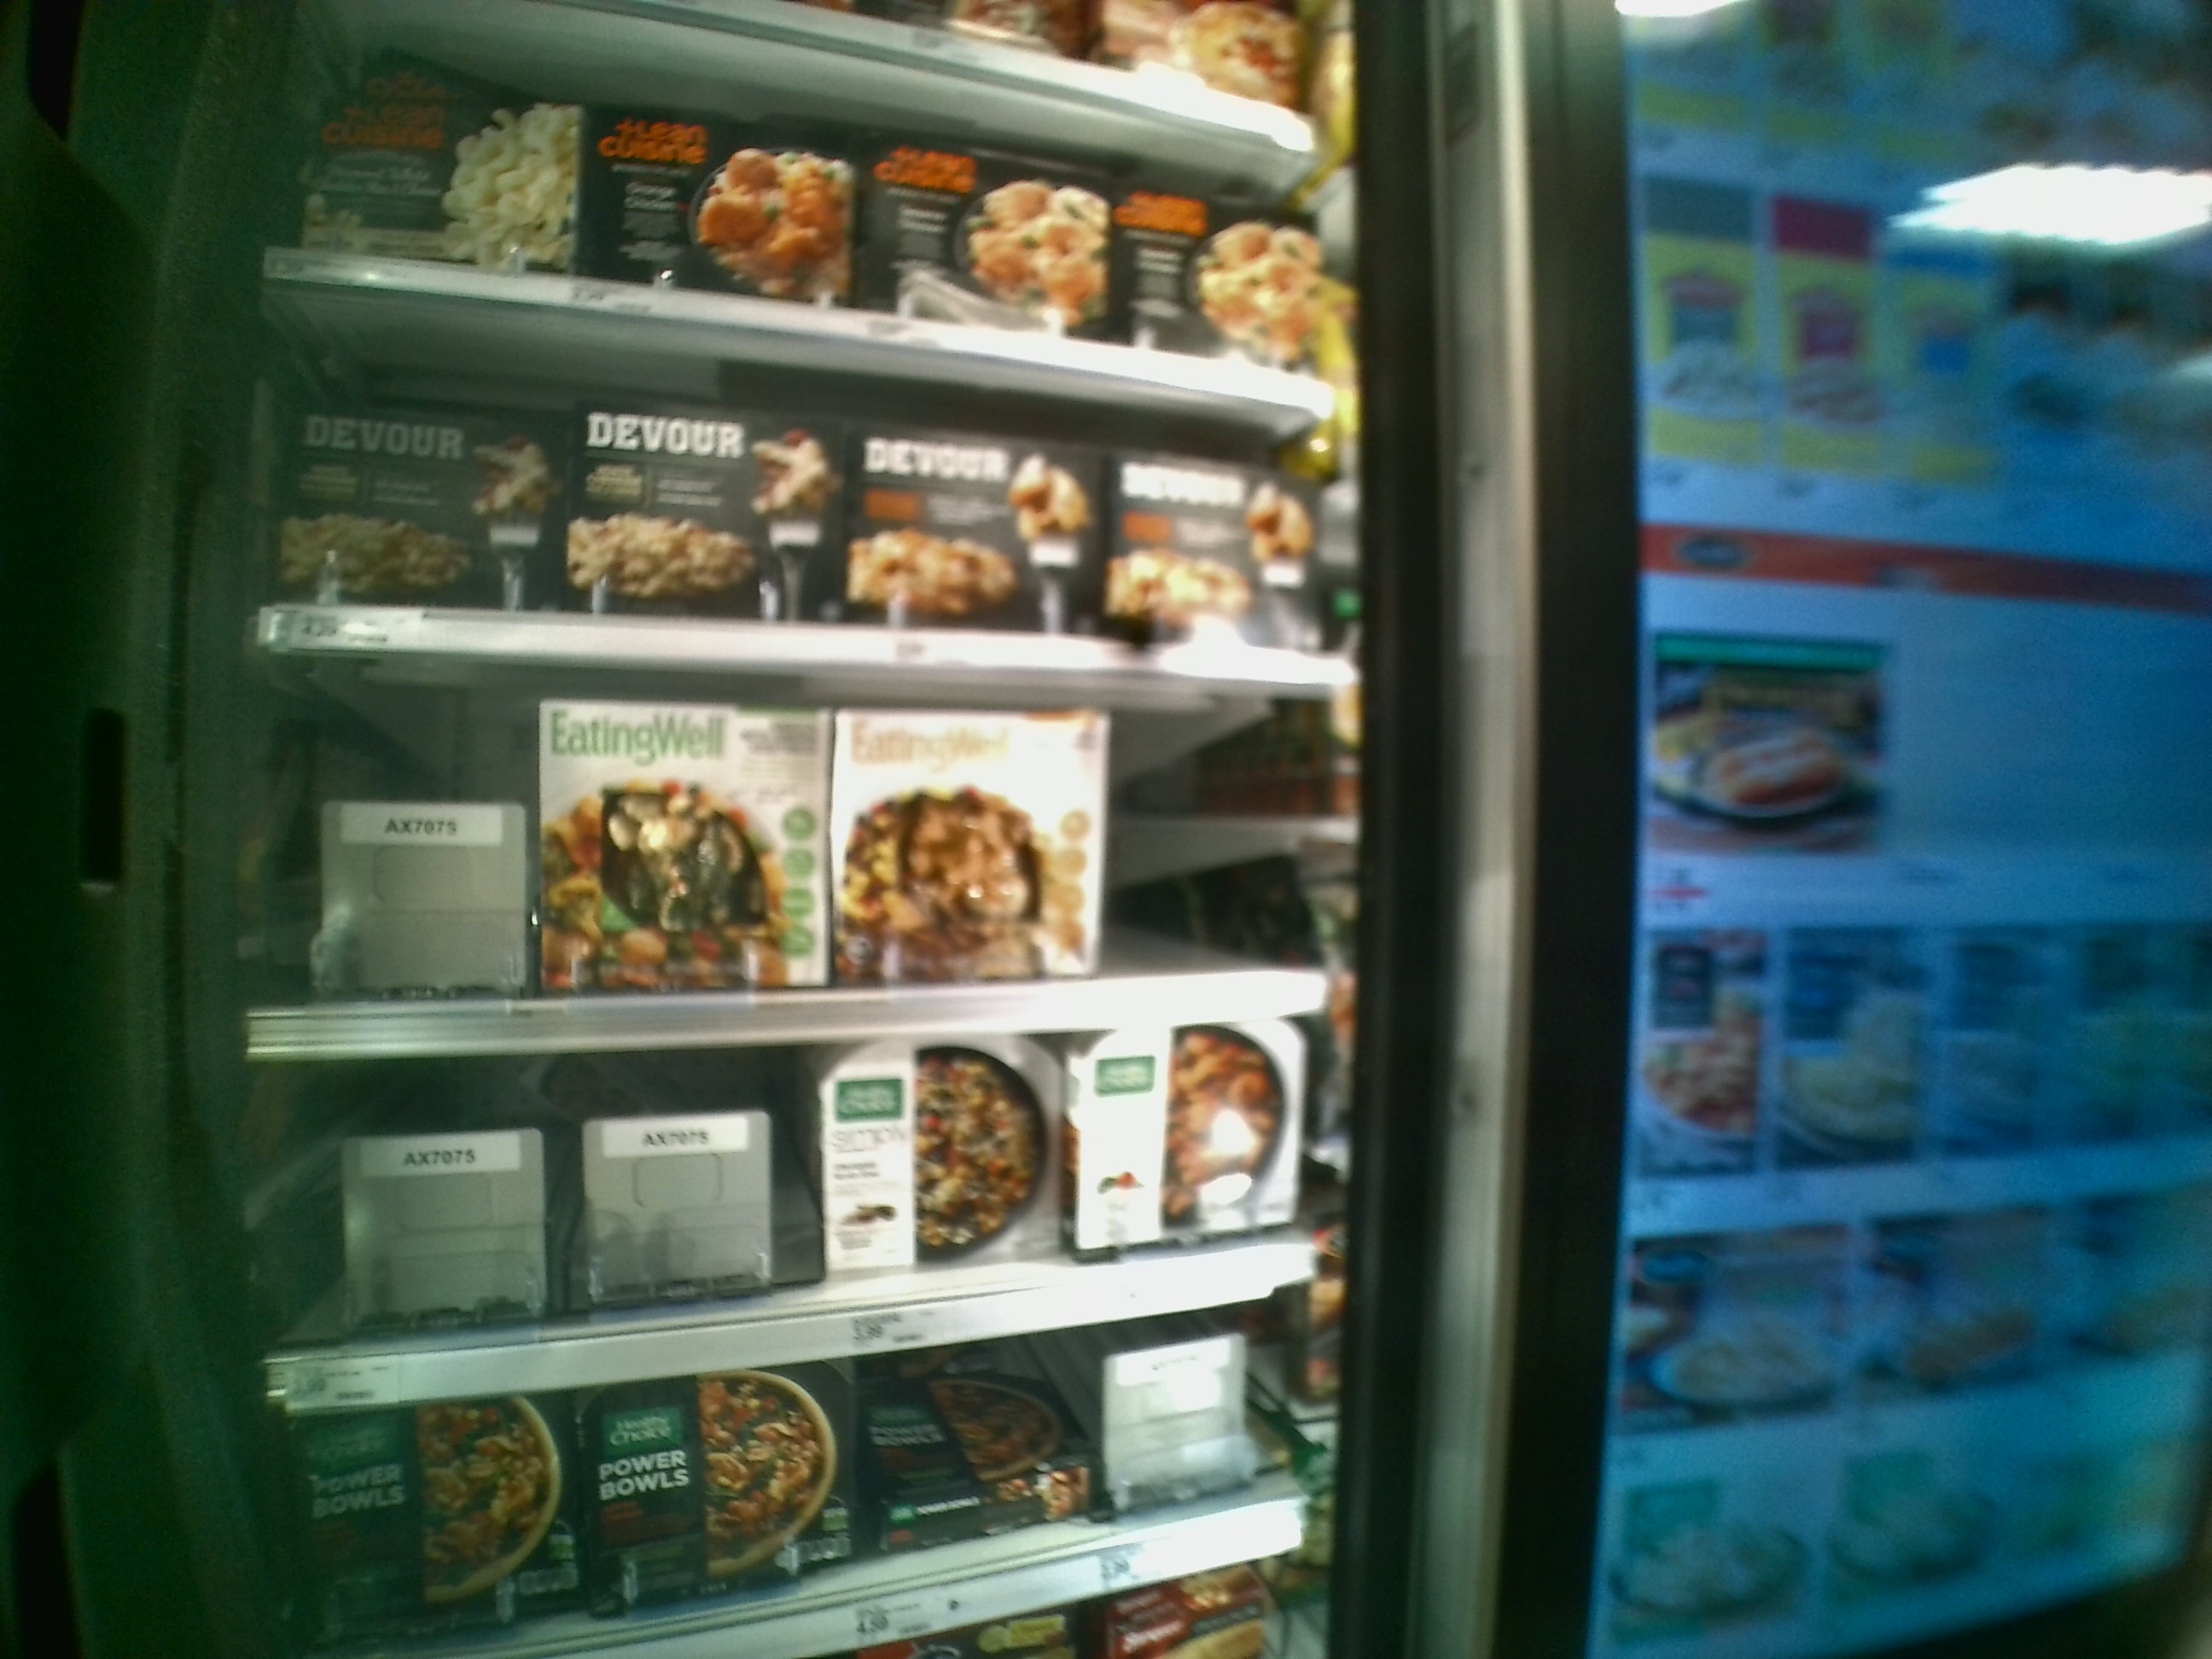shelf: (239, 1012, 1350, 1413), (254, 653, 1353, 1058), (254, 267, 1334, 673)
